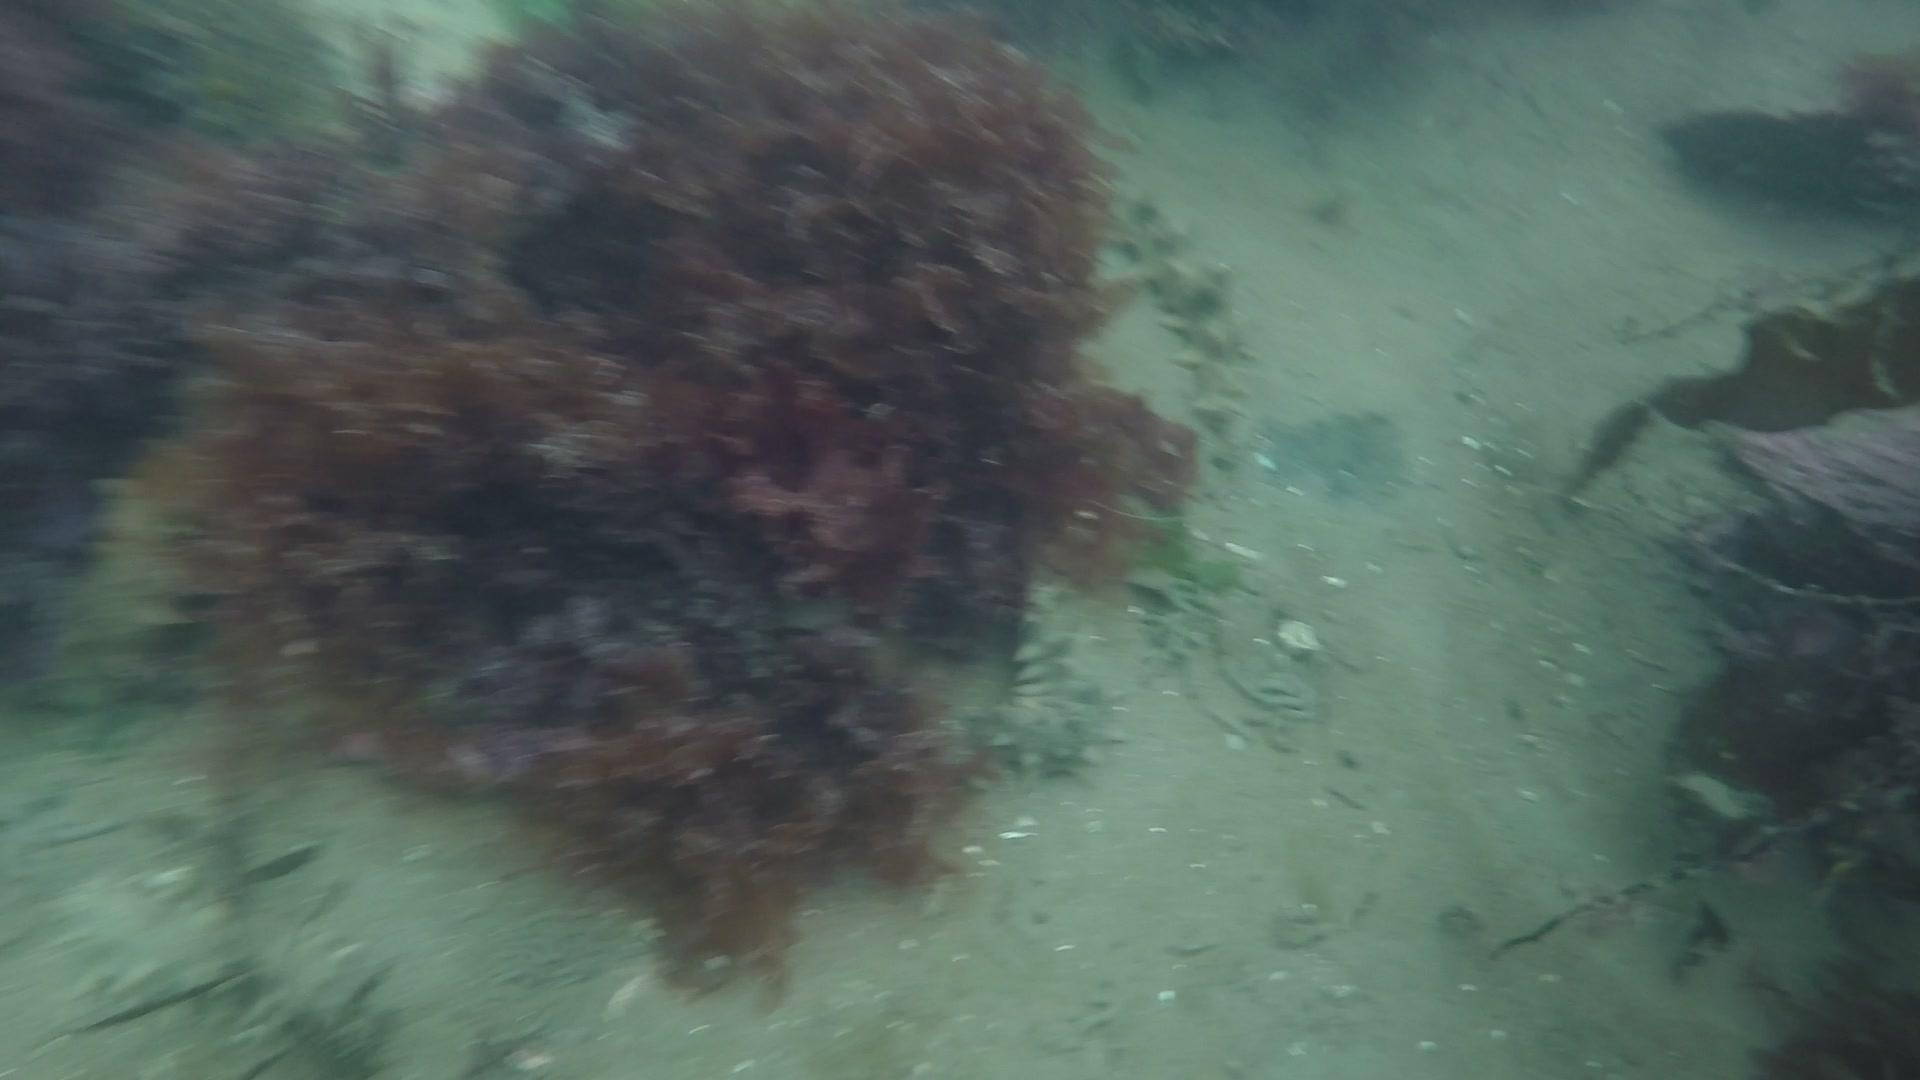holothurian: (30, 864, 419, 1072), (9, 433, 225, 725), (1113, 181, 1262, 460), (984, 578, 1127, 789)
